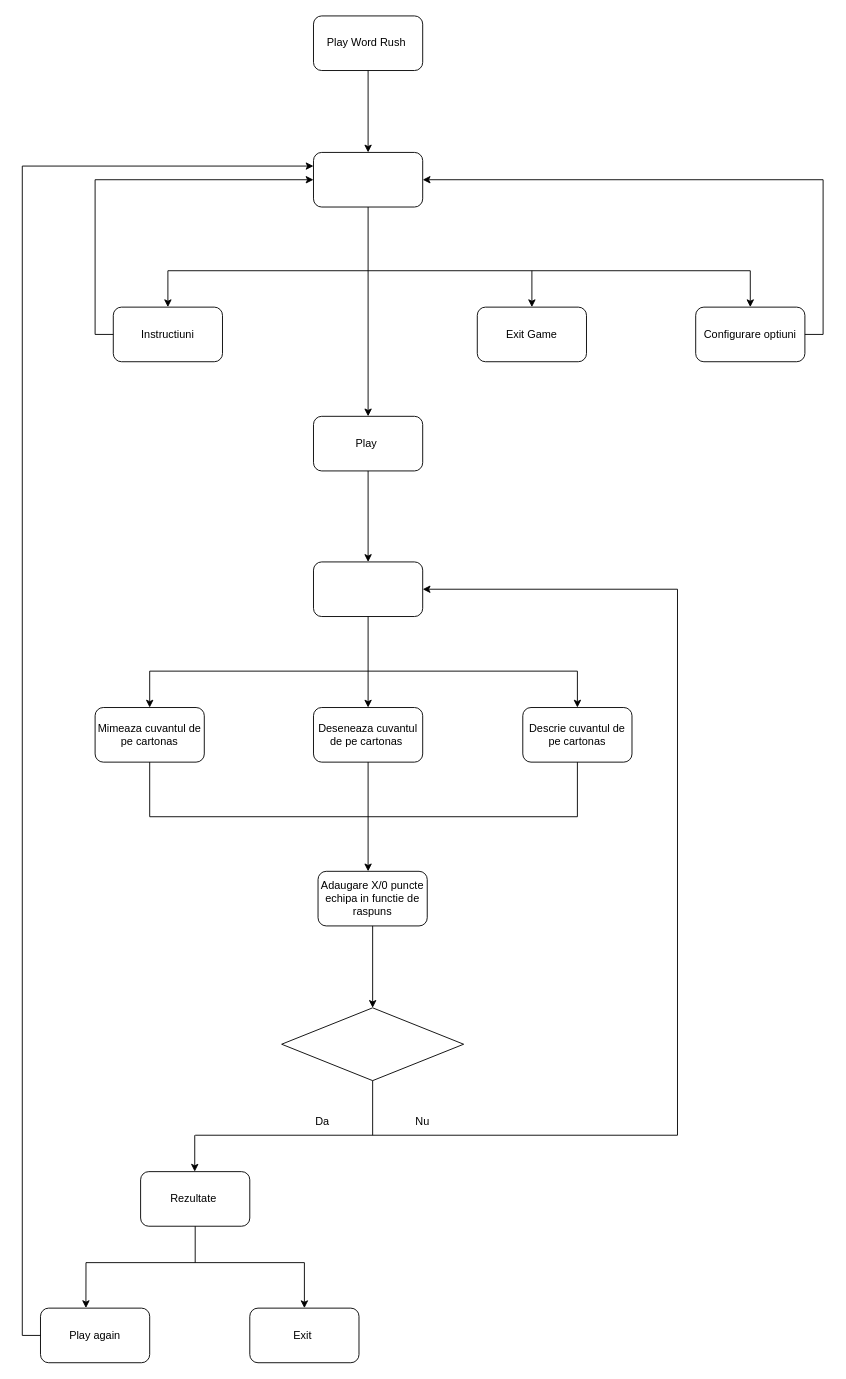
The diagram is 846 pixels wide and 1379 high, and some of its shapes have lost their labels. Each missing label, with the centre of its shape:
A ajuns o echipa la finish?: point (372, 1044)
Meniu Word Rush: point (368, 179)
Urmatoarea runda/echipa: point (368, 589)
